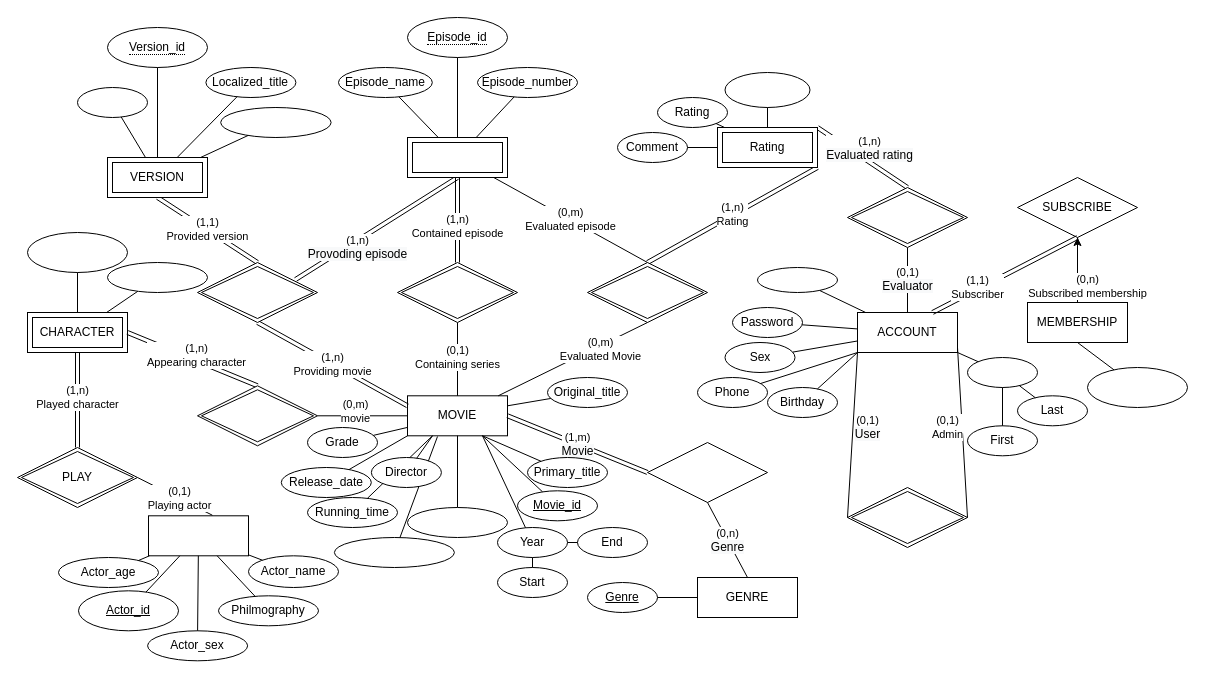
This 1205x679 diagram has some shape labels left out. The box of each missing label's shape, as (x1, y1, x2, y2) in pixels:
ACTOR: (148, 515, 248, 556)
ADMIN: (846, 486, 968, 548)
APPEAR FROM: (196, 385, 318, 446)
Character_id: (26, 232, 128, 272)
Character_name: (106, 262, 208, 292)
CONTAIN: (396, 262, 518, 322)
Email_add: (756, 266, 838, 292)
EPISODE: (406, 136, 508, 178)
EVALUATE: (846, 186, 968, 248)
EVALUATED AS: (586, 262, 708, 322)
Local_language: (220, 106, 331, 138)
Location: (76, 86, 148, 118)
Membership_title: (1086, 366, 1188, 408)
Name: (966, 356, 1038, 388)
OF: (646, 442, 768, 502)
Proiduction_country: (333, 536, 454, 568)
PROVIDE: (196, 262, 318, 322)
Rating_id: (724, 72, 810, 108)
Season_number: (406, 506, 508, 538)
